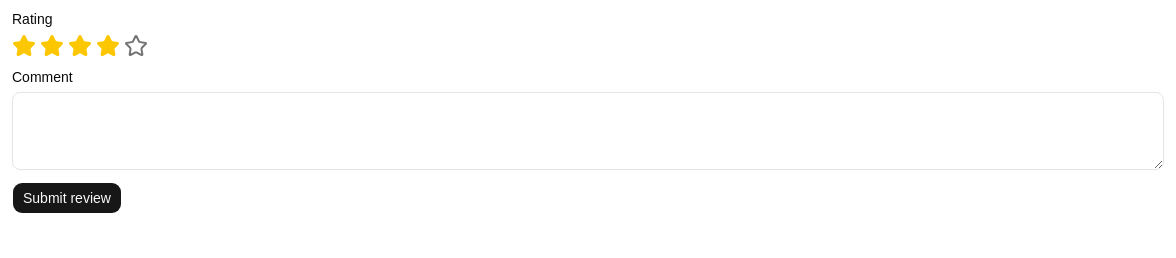
Test: ReviewForm › blocks an empty comment in edit mode
This screenshot has width=1176, height=258.
Click the button "Submit review" at (67, 198), box [12,182,122,214]
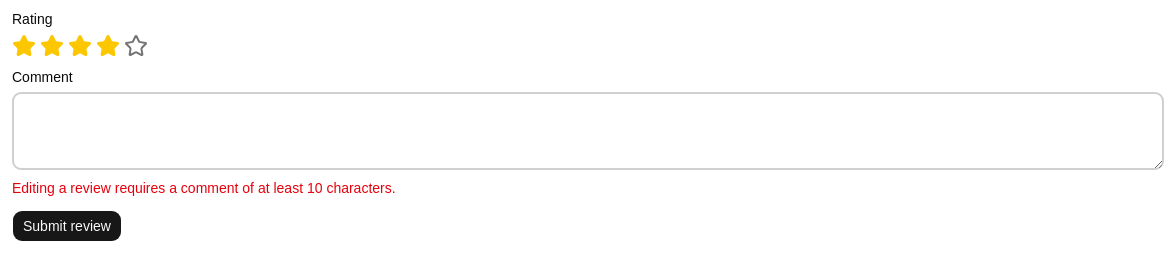
Result: the text "Editing a review requires a comment of at least 10 characters." is shown at [12,180,396,196]
